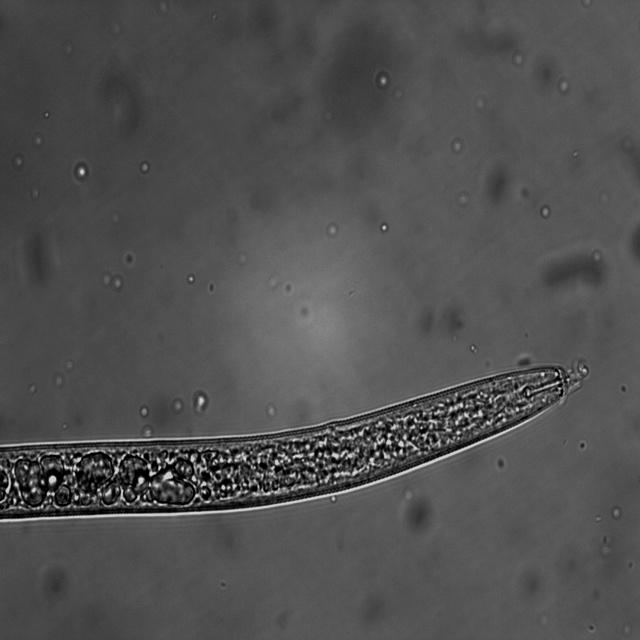Pratylenchus: (0, 354, 580, 532)
